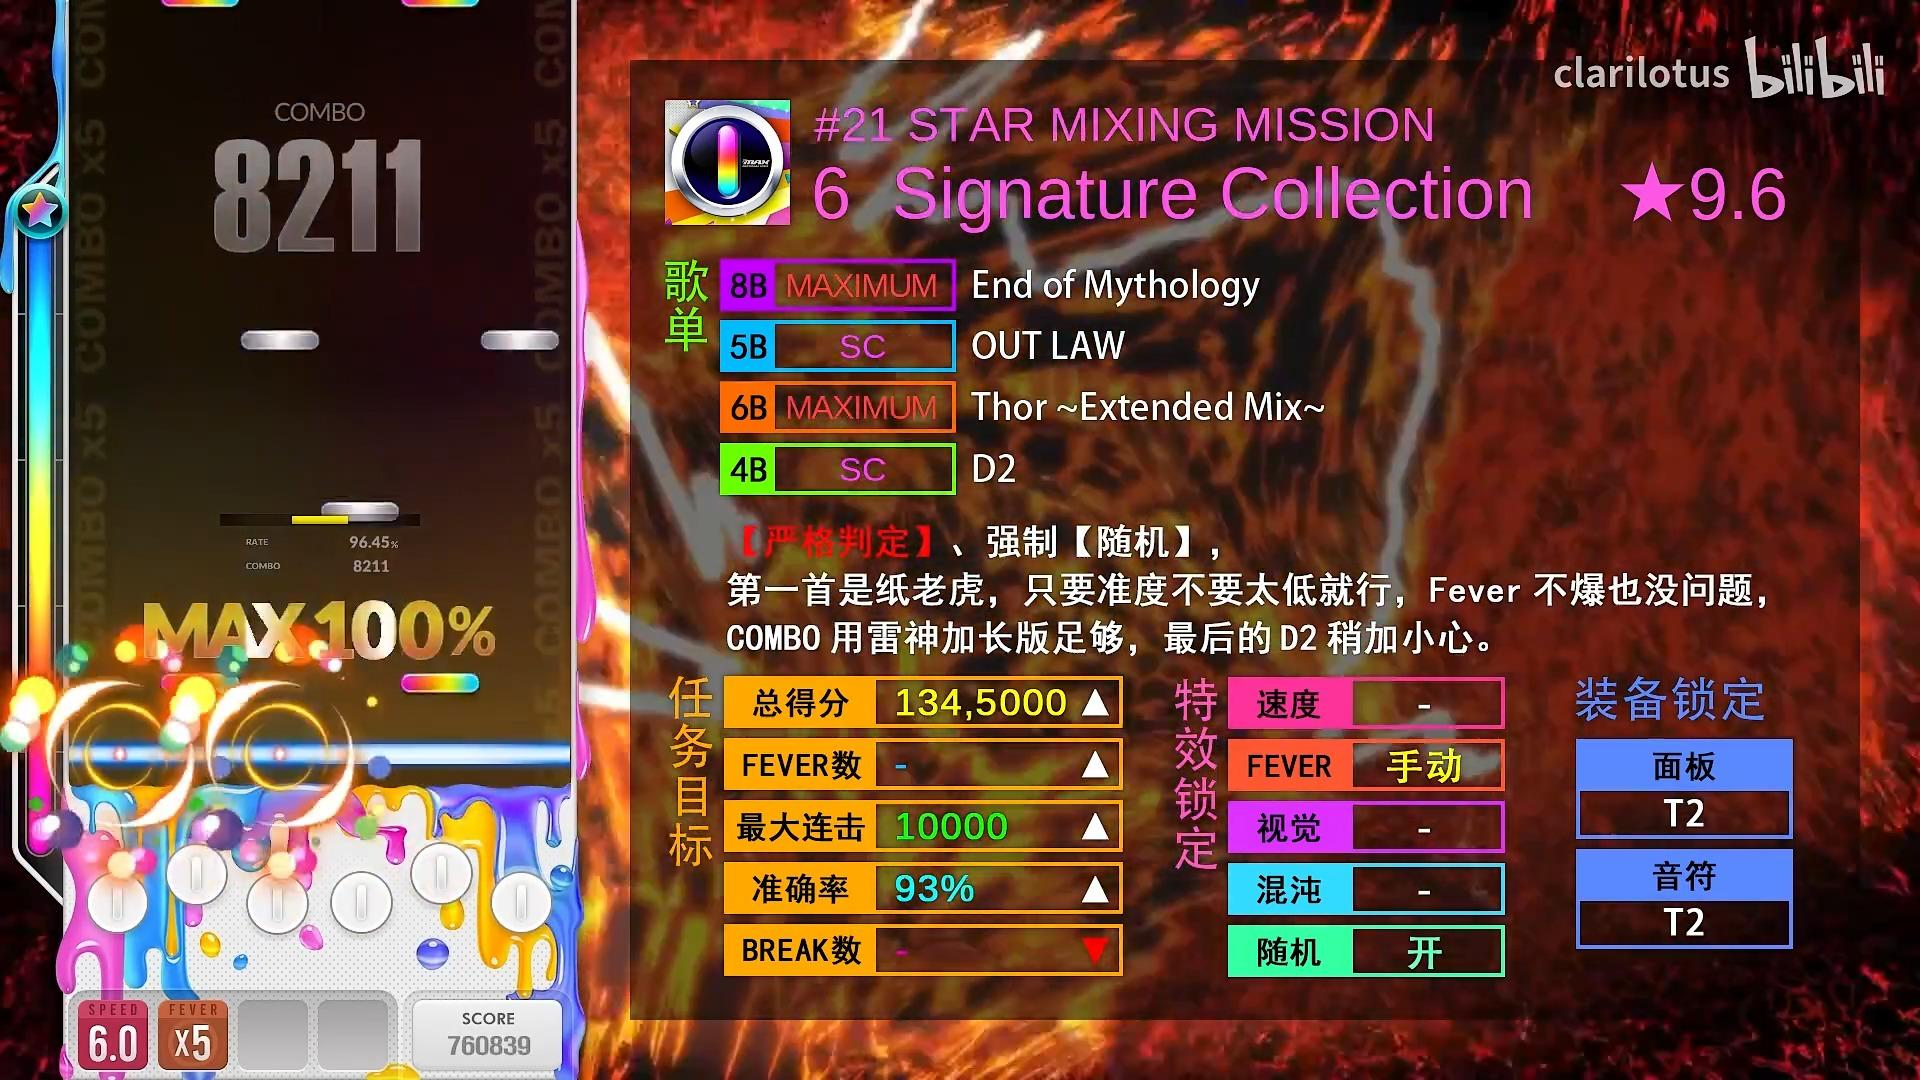note: (320, 501, 400, 522), (241, 330, 319, 351), (483, 330, 560, 351), (160, 674, 241, 694), (401, 674, 479, 694)
